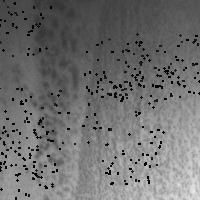pitted_surface: (86, 1, 200, 199), (24, 1, 83, 175), (84, 33, 143, 93), (94, 71, 154, 128), (102, 129, 162, 183), (122, 50, 179, 106), (39, 90, 94, 148), (0, 149, 59, 200), (0, 87, 50, 143), (152, 34, 200, 92), (0, 0, 45, 55), (0, 117, 39, 177), (0, 0, 55, 32)
